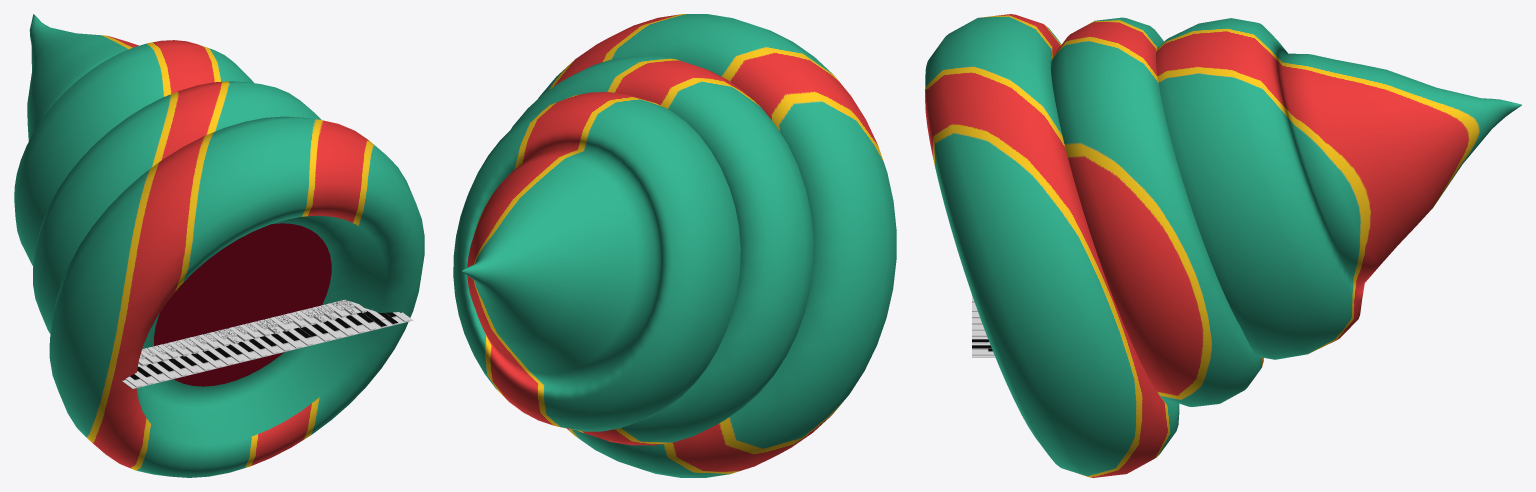
File: Caracol-piano.fbx
3 renders of one model, left to right at view 1: azimuth 30°, elevation 25°; view 2: azimuth 150°, elevation 25°; view 3: azimuth 270°, elevation 25°, orthographic. The views are drawn at different scales.
Parts seen in each view (by area): view 1: Torus.001, Torus.002, Torus.003, Plane.001; view 2: Torus.002, Torus.001, Torus.003; view 3: Torus.002, Torus.001, Torus.003, Plane.001.
Boxes of the visible parts, bbox=[...] form: Torus.001: bbox=[49, 116, 424, 477]; Torus.002: bbox=[14, 14, 253, 266]; Torus.003: bbox=[33, 81, 321, 334]; Plane.001: bbox=[122, 299, 413, 388]; Torus.002: bbox=[453, 92, 740, 431]; Torus.001: bbox=[537, 14, 896, 477]; Torus.003: bbox=[511, 55, 813, 445]; Torus.002: bbox=[1156, 18, 1521, 359]; Torus.001: bbox=[925, 14, 1179, 477]; Torus.003: bbox=[1051, 17, 1263, 406]; Plane.001: bbox=[972, 295, 995, 357].
Bounding box in the file's own units: 75.03 × 77.89 × 98.77.
